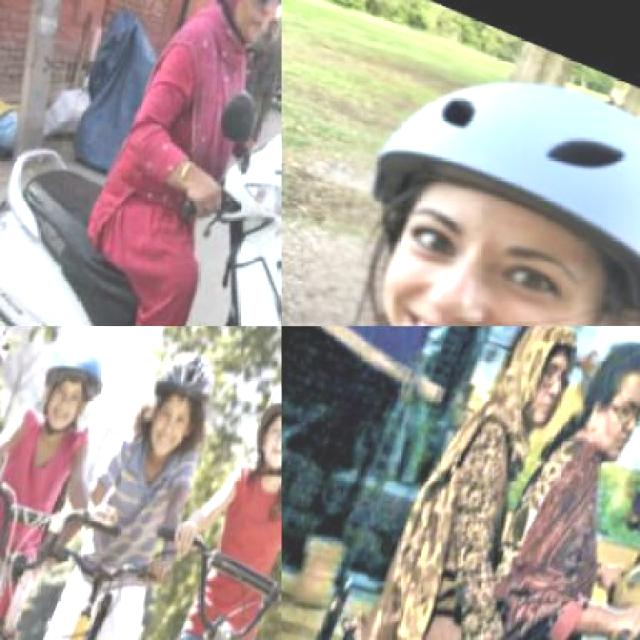With Helmet: (282, 12, 638, 325), (124, 326, 238, 471), (26, 326, 125, 442), (235, 349, 280, 485), (192, 0, 280, 48), (0, 326, 28, 422)
Without Helmet: (483, 326, 599, 440), (560, 326, 638, 474)
